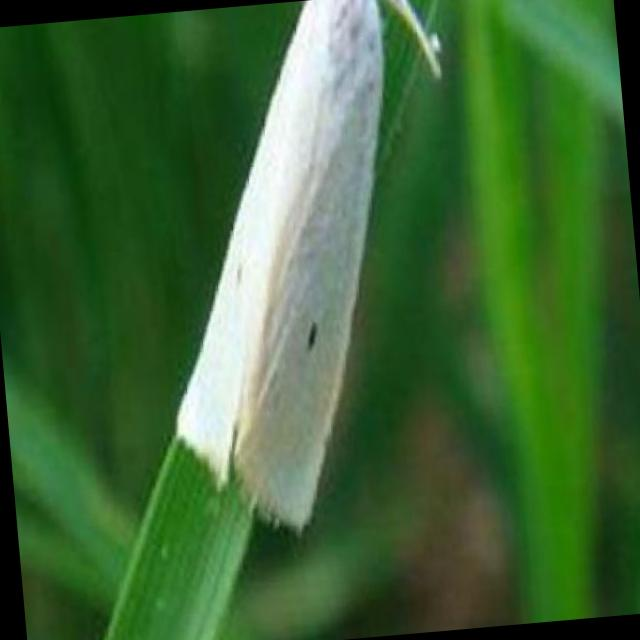stem-borer: (135, 0, 482, 551)
